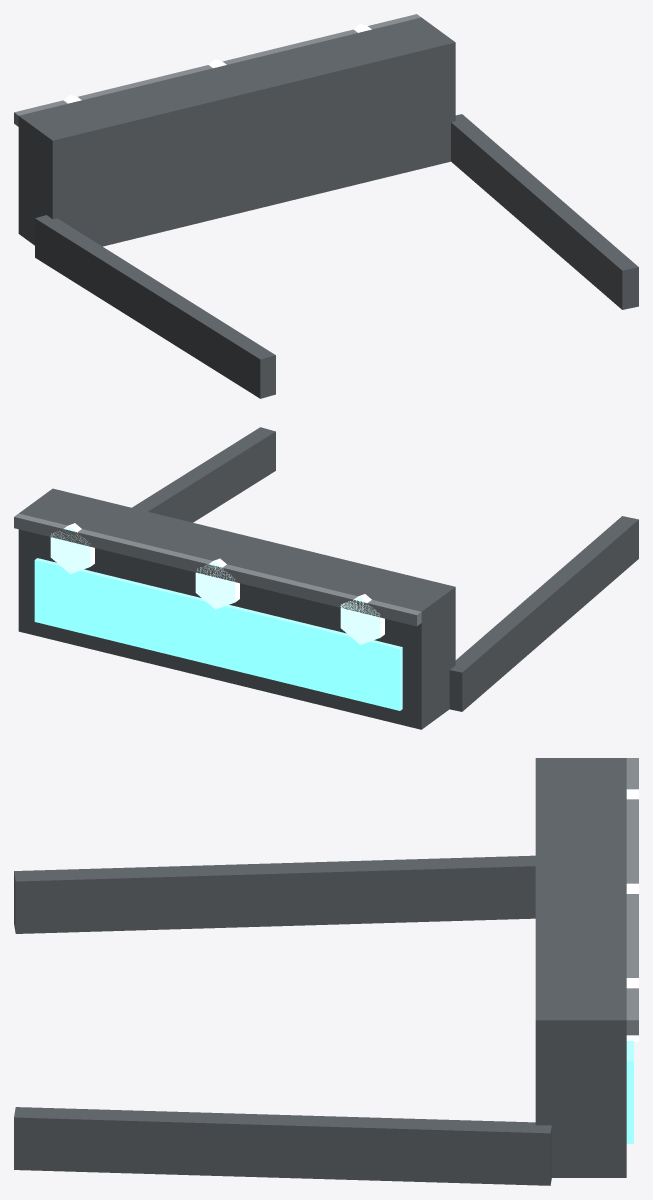
File: oculos_zane.glb
3 views of the same model, one above another, from view 1: azimuth 30°, elevation 25°; view 2: azimuth 150°, elevation 25°; view 3: azimuth 270°, elevation 25° (orthographic). The views are drawn at different scales.
Visible parts, largest first — view 1: Oculos; view 2: Oculos; view 3: Oculos.
Part boxes in pixels (bbox=[...]): Oculos: bbox=[14, 14, 638, 398]; Oculos: bbox=[14, 427, 638, 729]; Oculos: bbox=[14, 758, 638, 1185].
Size of the model in its own units: 0.1591 by 0.0435 by 0.1511.
